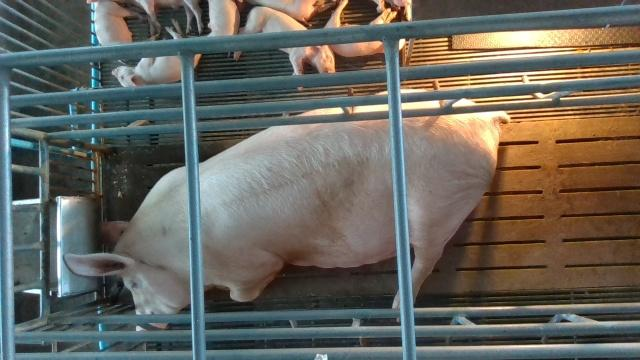piglet: (234, 6, 335, 91), (110, 20, 200, 85), (322, 0, 406, 57), (96, 0, 147, 44), (207, 0, 240, 38)
sow-sleep: (64, 90, 515, 330)
